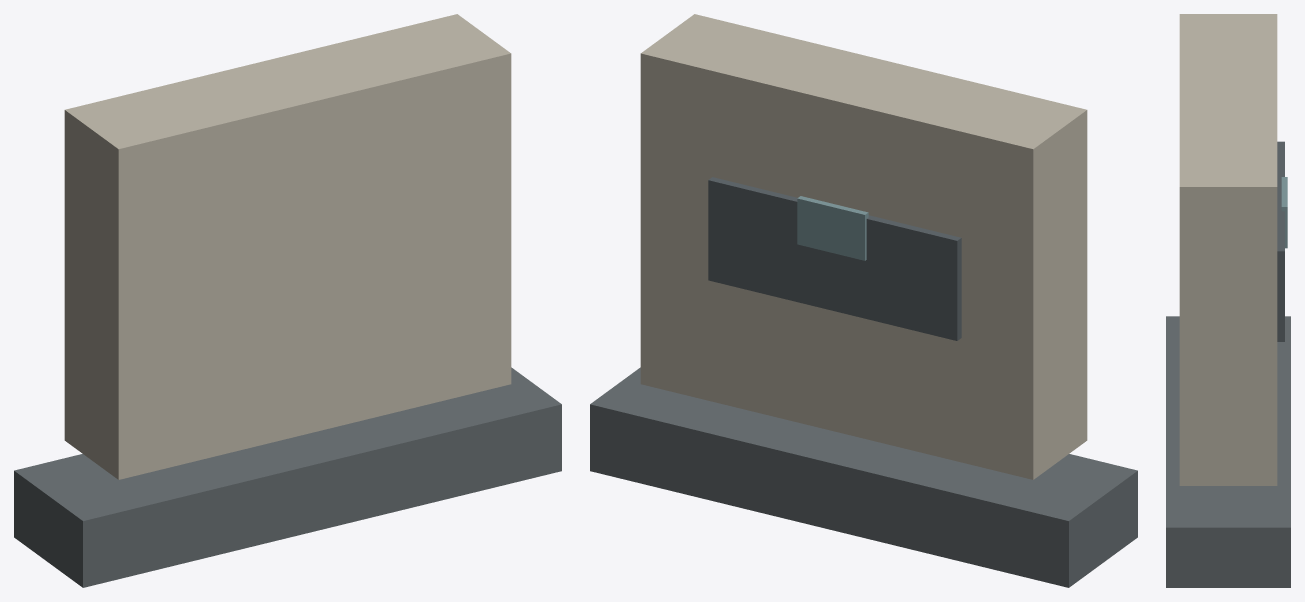
The model's file is iz3_environment_bus_stop_01.glb.
The picture shows the model from 3 angles, left to right: view 1: azimuth 30°, elevation 25°; view 2: azimuth 150°, elevation 25°; view 3: azimuth 270°, elevation 25°; orthographic projection. The views are drawn at different scales.
Visible parts, largest first — view 1: cabinet, base; view 2: cabinet, base, panel, display; view 3: cabinet, base, panel, display.
Part boxes in pixels (bbox=[...]): cabinet: bbox=[64, 14, 511, 479]; base: bbox=[14, 367, 561, 587]; cabinet: bbox=[640, 14, 1087, 479]; base: bbox=[590, 367, 1137, 587]; panel: bbox=[708, 177, 961, 340]; display: bbox=[797, 196, 868, 260]; cabinet: bbox=[1179, 14, 1277, 485]; base: bbox=[1166, 316, 1290, 587]; panel: bbox=[1277, 141, 1284, 341]; display: bbox=[1281, 177, 1287, 248].
Bounding box in the file's own units: 2.4 × 2.02 × 0.6.
